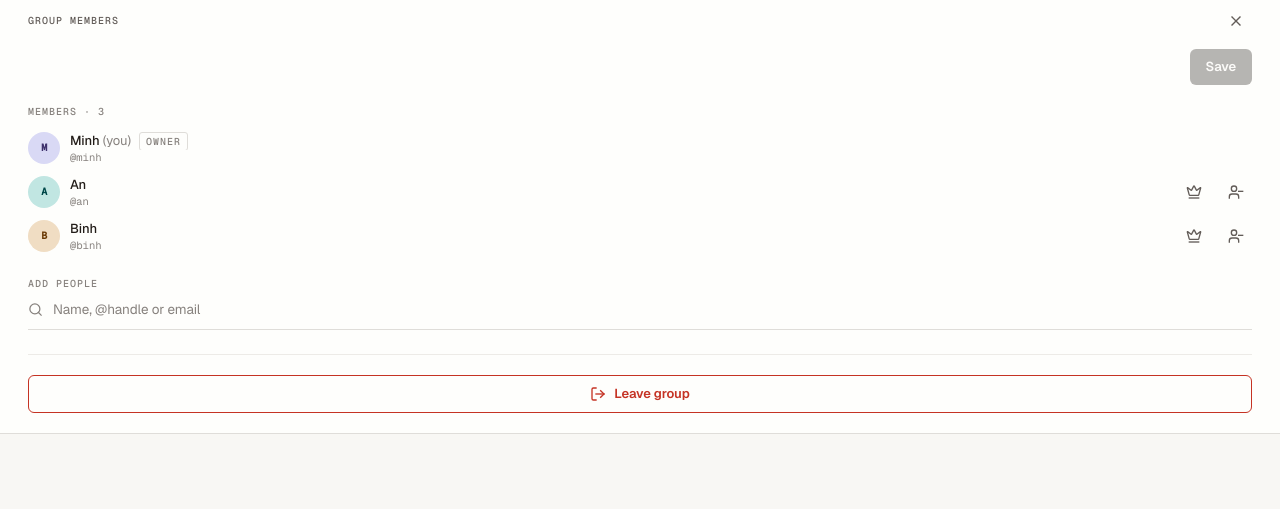
Scenario: GroupMembersPanel › excludes current participants from add-member search results
Type "a" into the field named "Add a member" at (652, 309), box [53,299,1252,319]
Then press Enter
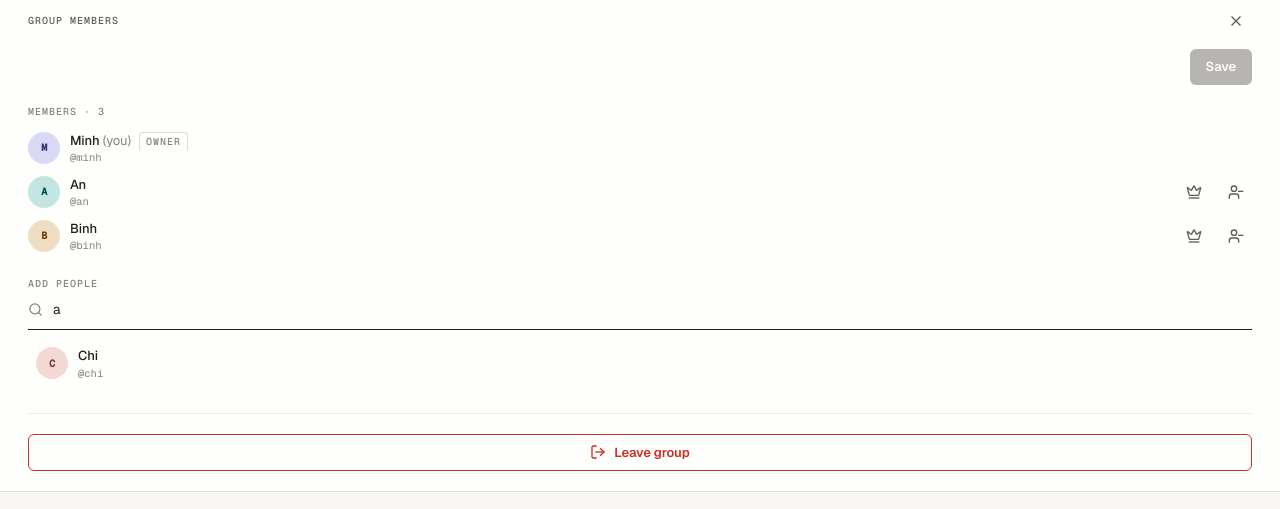
Check: the button with aria-label "Add Chi @chi" is shown, box [28,338,1252,388]
